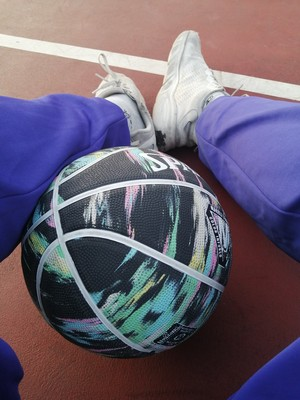ball: (20, 145, 233, 359)
